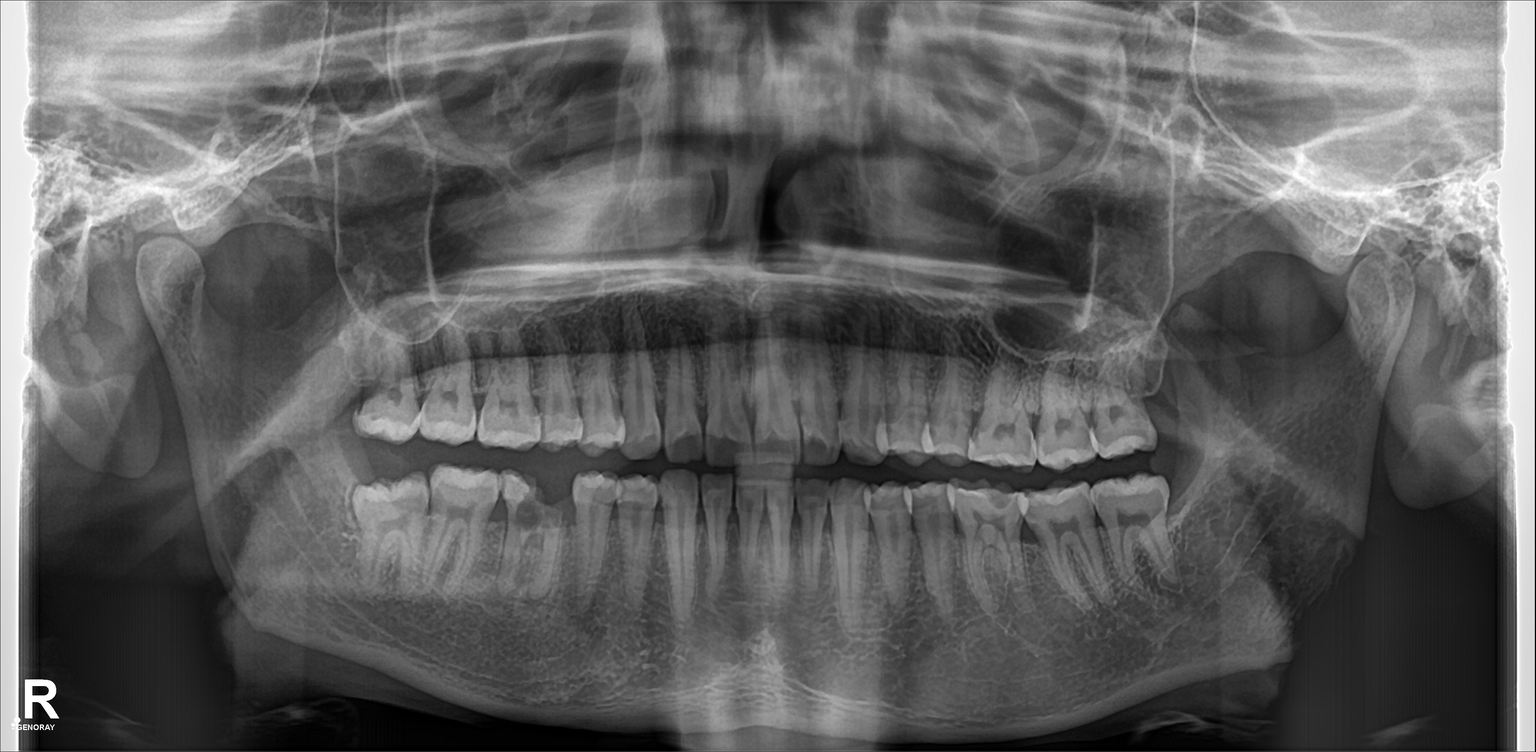Dental Caries: (505, 484, 569, 526), (670, 428, 700, 459)
Missing Tooth: (1142, 354, 1184, 460), (1173, 463, 1213, 551), (1153, 467, 1165, 468)
Retained Root: (503, 465, 565, 599)
